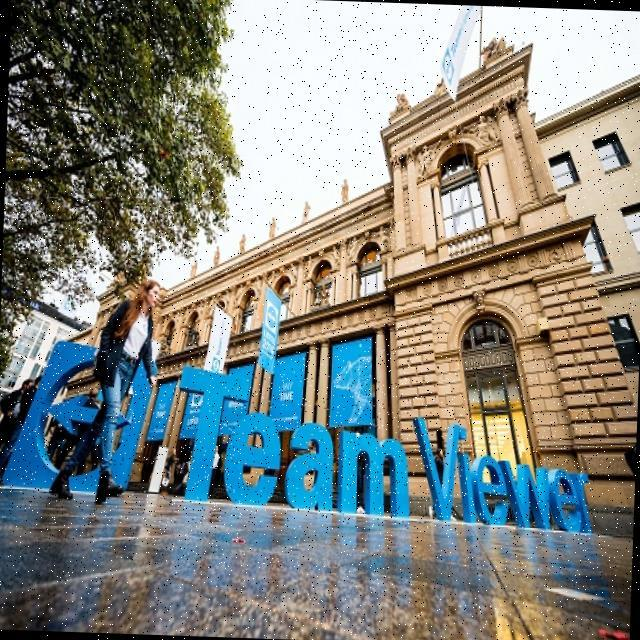TeamViewer: (2, 335, 598, 538)
